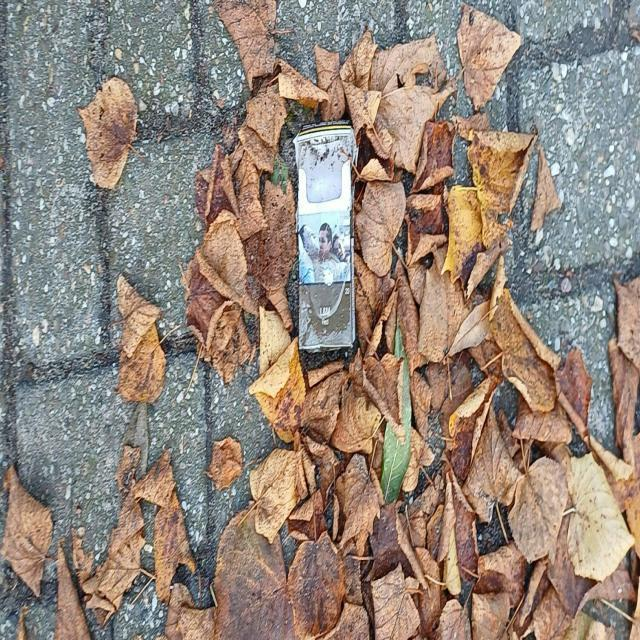Paper: (291, 116, 359, 356)
